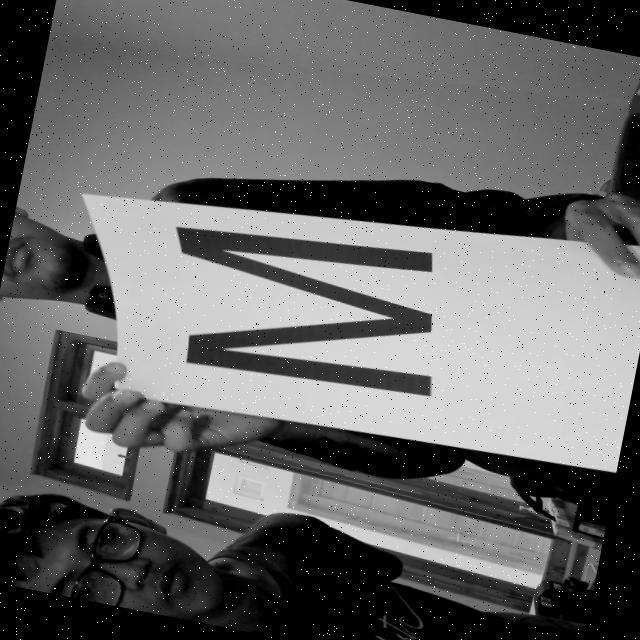m: (141, 196, 498, 442)
